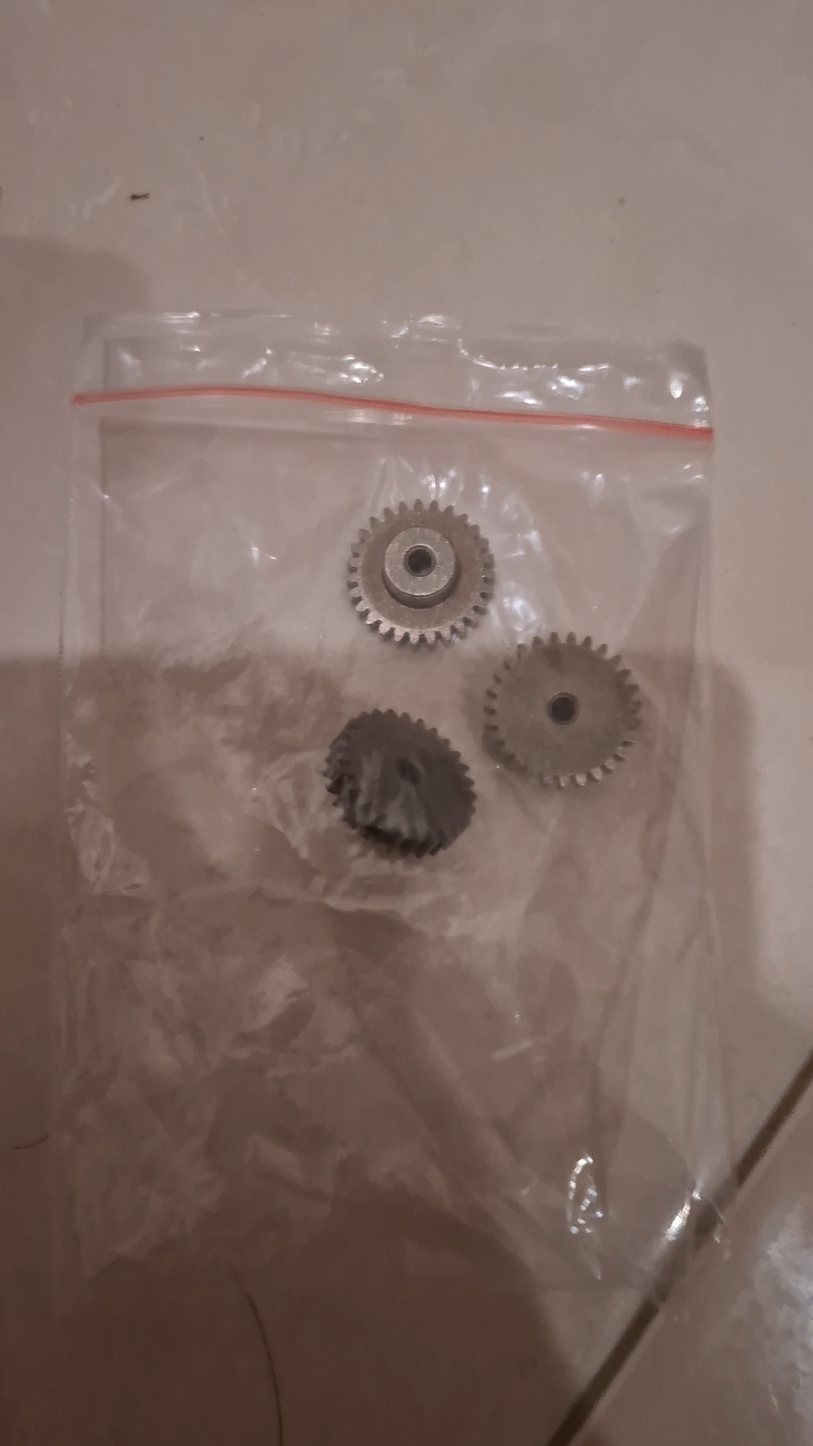spur gear: (478, 633, 643, 788), (319, 708, 477, 858), (343, 498, 497, 648)
